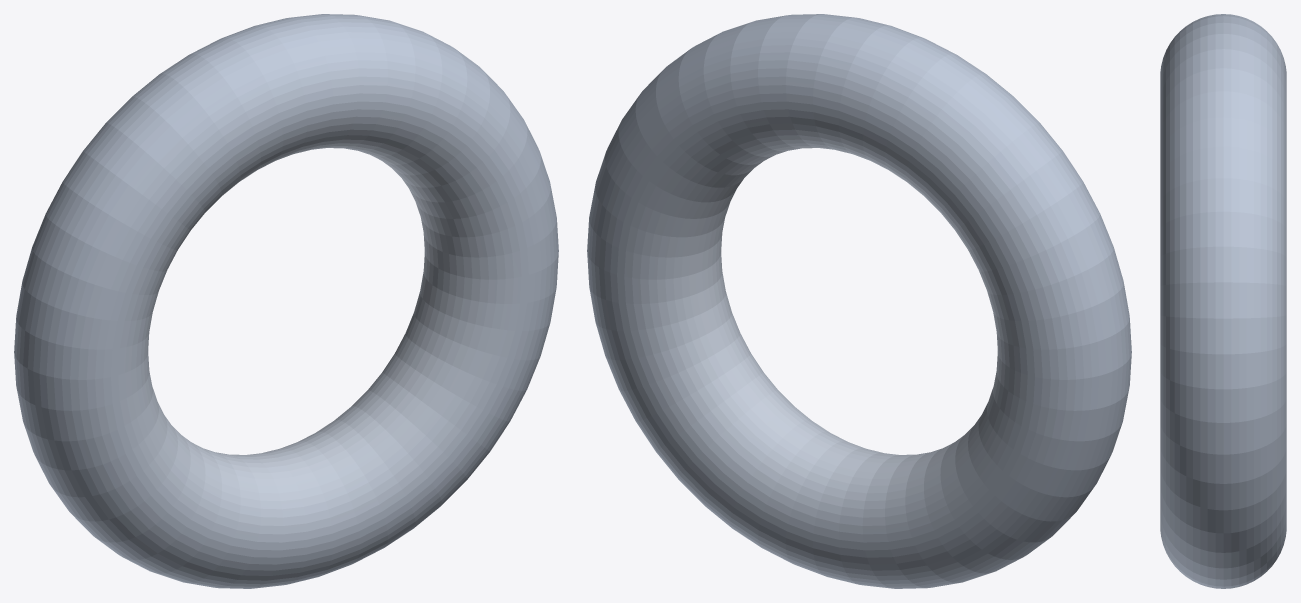
3 views of the same model, side by side, from view 1: azimuth 30°, elevation 25°; view 2: azimuth 150°, elevation 25°; view 3: azimuth 270°, elevation 25° (orthographic). The views are drawn at different scales.
Visible parts, largest first — view 1: world; view 2: world; view 3: world.
Part boxes in pixels (x1,y1,x2,y2): world: (14, 14, 558, 588); world: (587, 14, 1131, 588); world: (1160, 14, 1286, 588).
Size of the model in its own units: 24.8 by 24.75 by 5.46.
